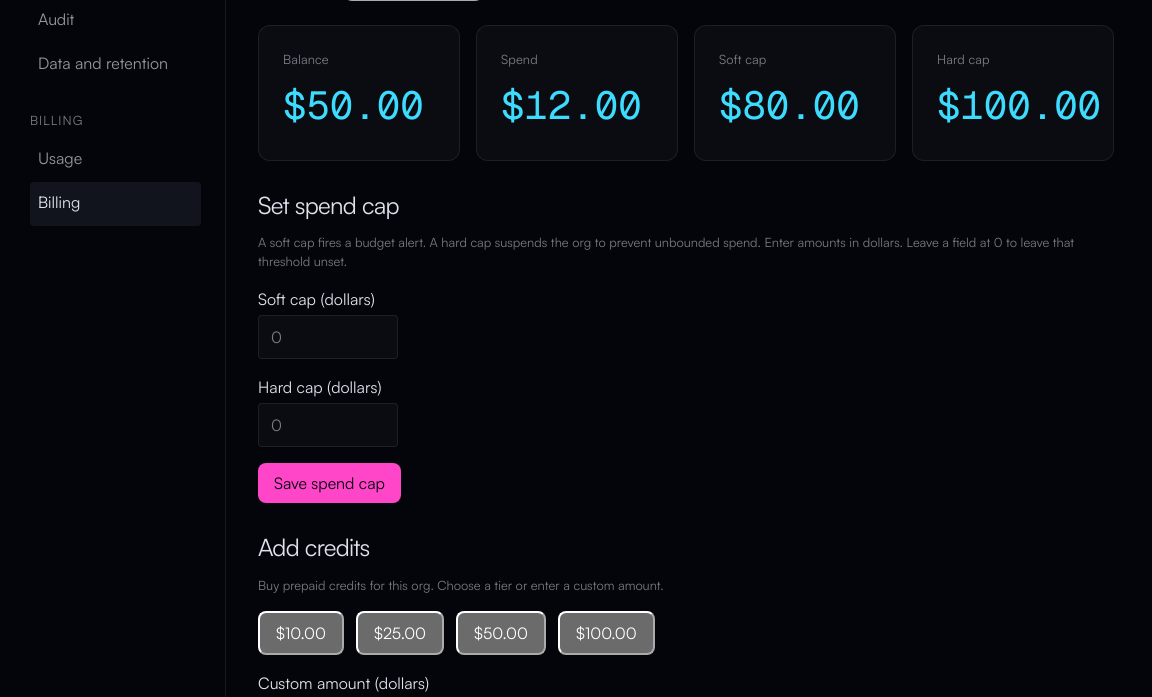
Billing view › shows an error alert when the spend-cap mutation fails
(page scrolled)
Type "50" into the number field labelled "Soft cap (dollars)" at (328, 338), box [258, 316, 398, 360]
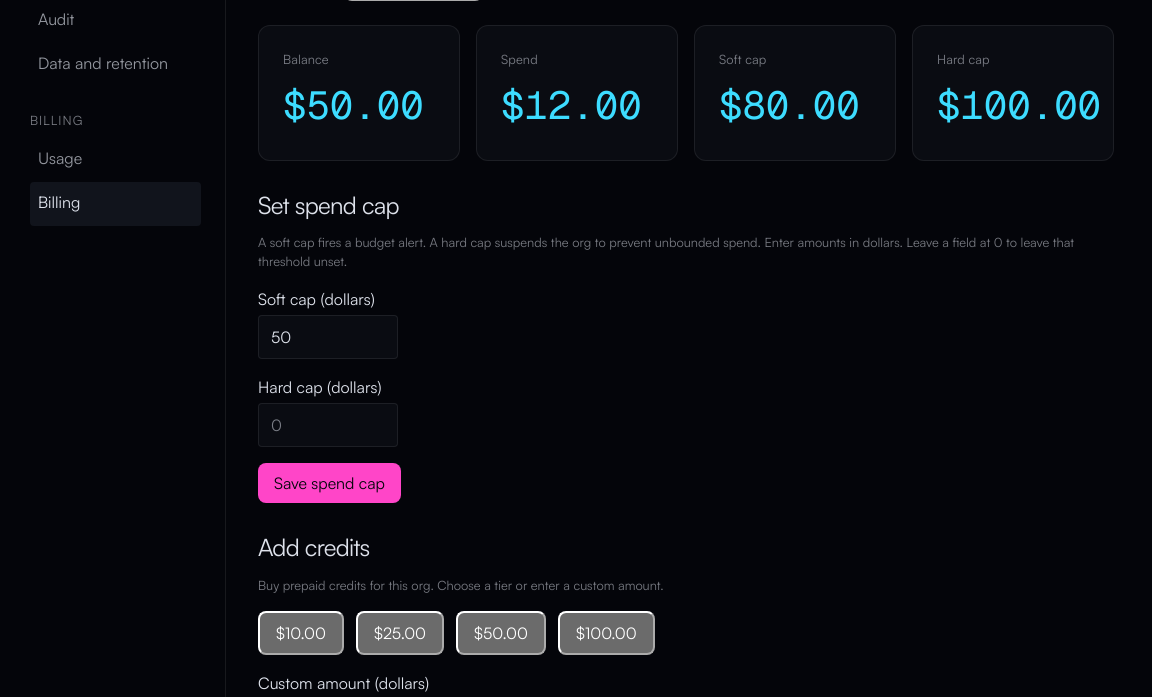
Type "20" into the number field labelled "Hard cap (dollars)" at (328, 426), box [258, 404, 398, 448]
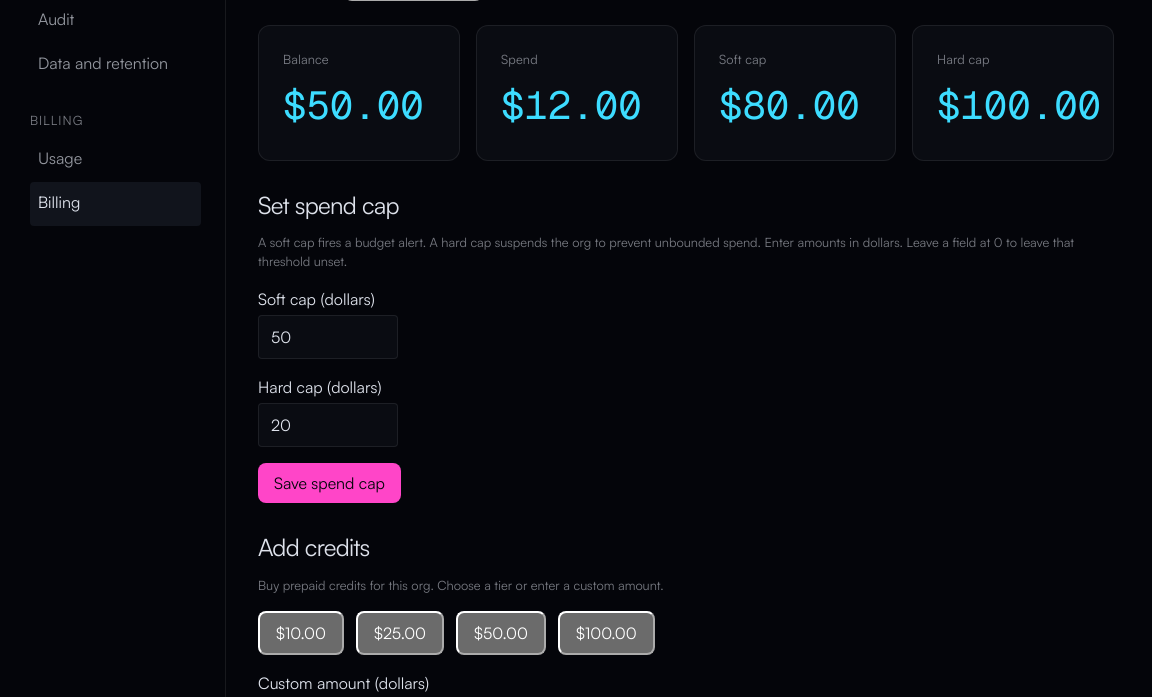
Click the button "Save spend cap" at (329, 484), box [258, 464, 401, 504]
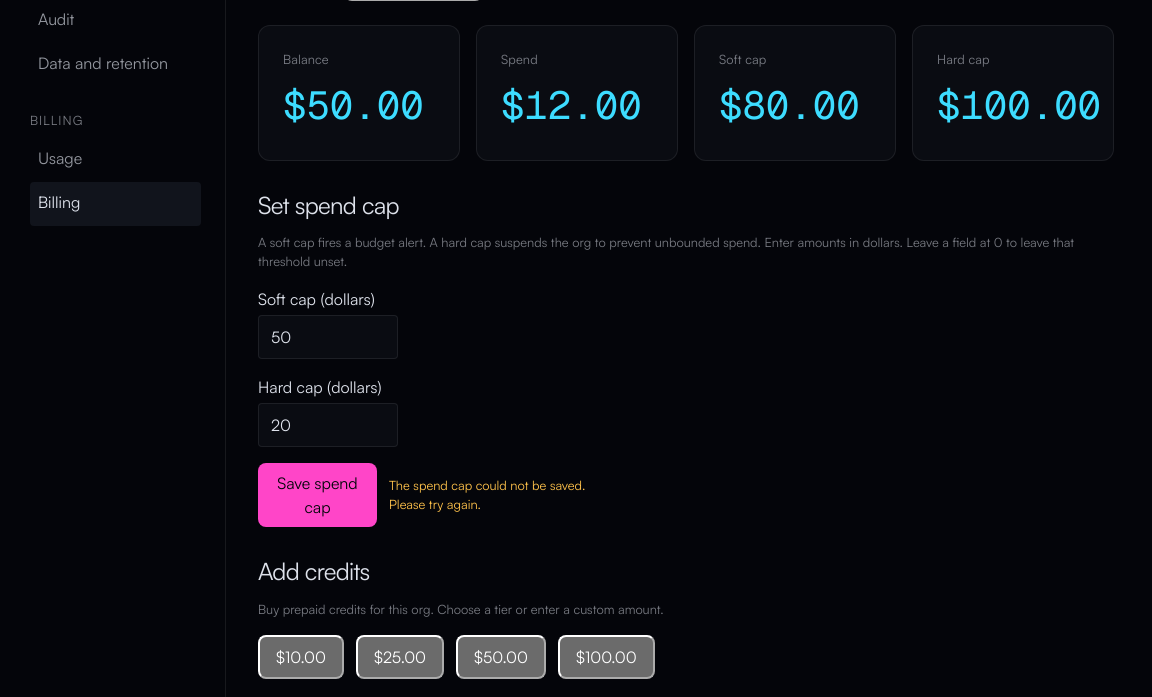
Check: the text "The spend cap could not be saved. Please try again." is shown, box [389, 476, 618, 515]
